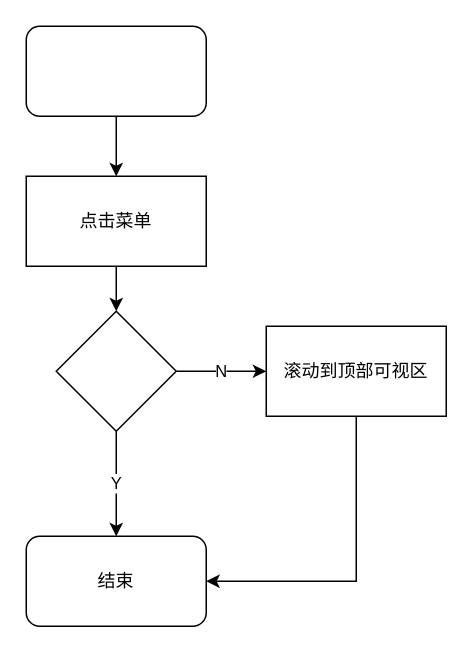
This 473x653 diagram has some shape labels left out. Each missing label, with the box of its shape:
400ms后判断菜单是否在可视区: (55, 310, 176, 431)
开始: (25, 25, 206, 116)
